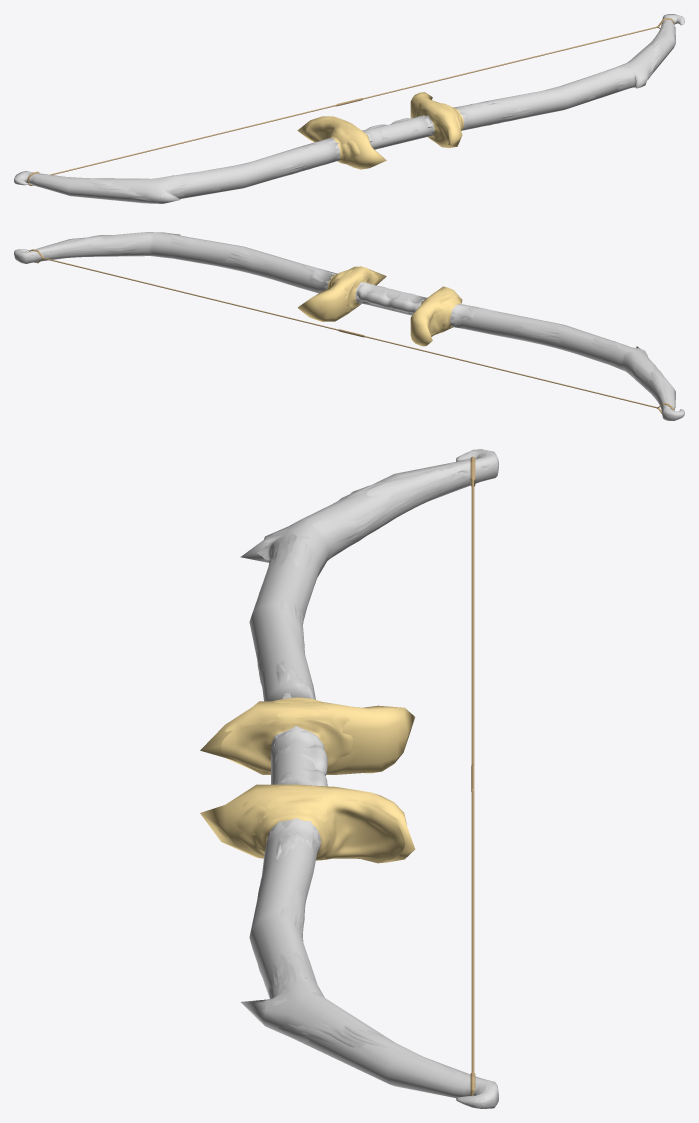
File: Arco.fbx
3 renders of one model, top to bottom at view 1: azimuth 30°, elevation 25°; view 2: azimuth 150°, elevation 25°; view 3: azimuth 270°, elevation 25°, orthographic. The views are drawn at different scales.
Parts seen in each view (by area): view 1: Cube.001, Cube, Cilindro; view 2: Cube.001, Cube, Cilindro; view 3: Cube.001, Cube, Cilindro.
Part boxes in pixels (<box>): Cube.001: <box>14,14,684,203</box>; Cube: <box>14,15,684,202</box>; Cilindro: <box>27,18,673,185</box>; Cube.001: <box>14,232,684,420</box>; Cube: <box>15,232,684,418</box>; Cilindro: <box>28,249,673,413</box>; Cube.001: <box>200,449,498,1108</box>; Cube: <box>218,449,497,1108</box>; Cilindro: <box>470,456,475,1095</box>.
Size of the model in its own units: 3654 by 178 by 708.
